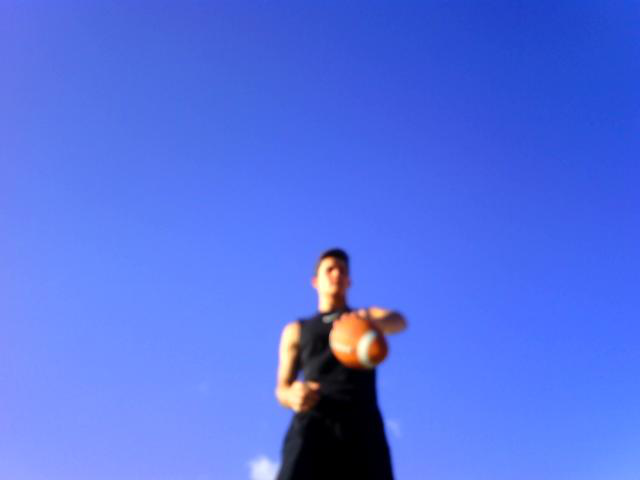football: (327, 316, 389, 371)
